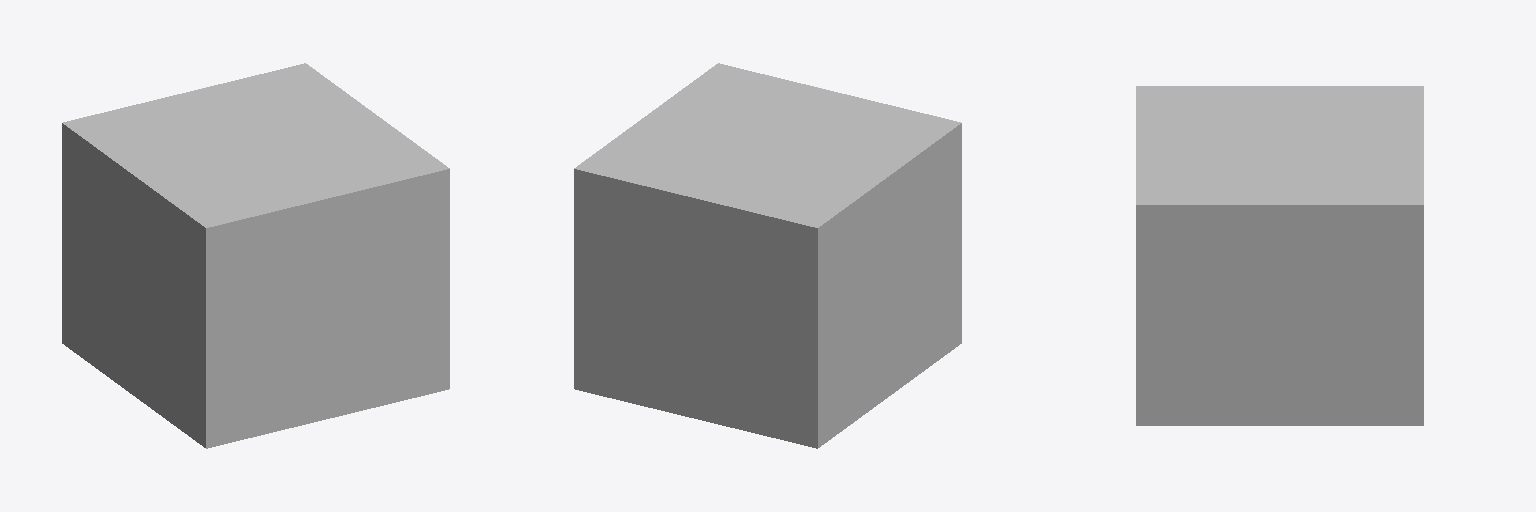
The model's file is AniTest1.obj.
3 views of the same model, side by side, from view 1: azimuth 30°, elevation 25°; view 2: azimuth 150°, elevation 25°; view 3: azimuth 270°, elevation 25° (orthographic).
Parts seen in each view (by area): view 1: pCube1; view 2: pCube1; view 3: pCube1.
Boxes of the visible parts, x1,y1,x2,y2 form: pCube1: [62, 63, 449, 448]; pCube1: [574, 63, 961, 448]; pCube1: [1136, 86, 1423, 425].
Bounding box in the file's own units: 3.92 × 3.38 × 4.01.